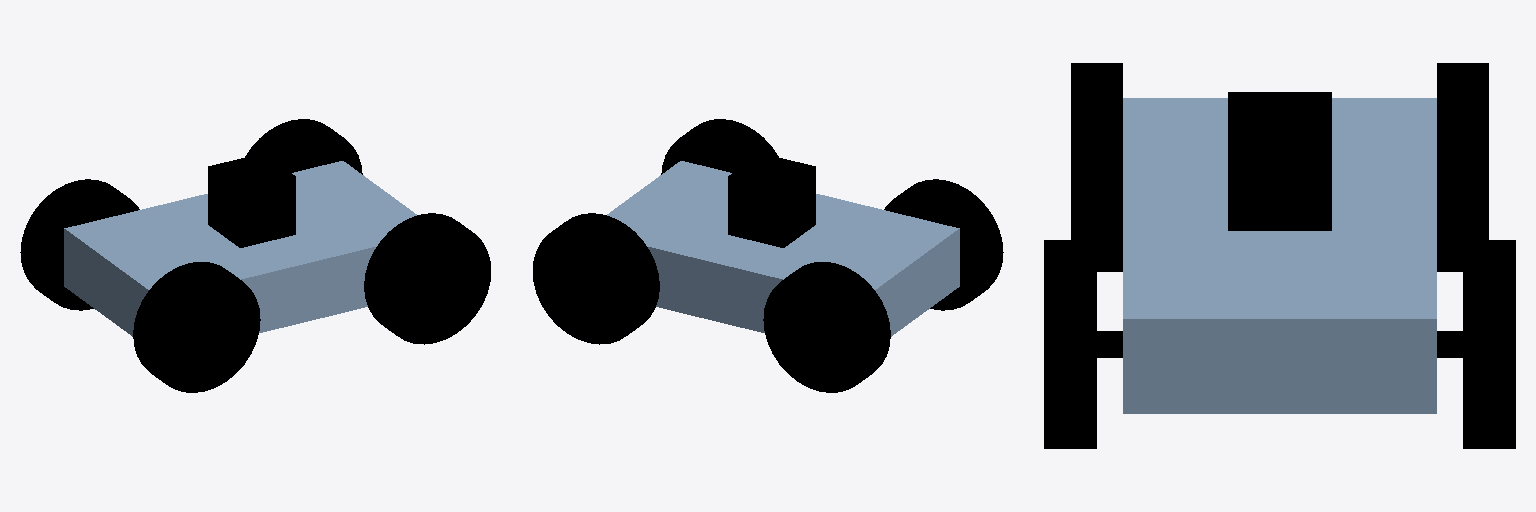
robot.urdf — simplecar:
<?xml version="1.0"?> 
<robot name="simplecar">
    <!-- Colors --> 
    <material name="black"> 
        <color rgba="0 0 0 1"/>
    </material>
    <material name="blue"> 
        <color rgba="0.6 0.7 0.8 1"/>
    </material>


    <!-- Base Frame of Car --> 
    <link name="base_link">
        <visual> 
            <geometry> 
                <box size="0.5 0.3 0.1"/>
            </geometry>
            <material name="blue"/>
        </visual>
        <inertial>
            <mass value="6"/>
            <inertia ixx="0.1" ixy="0" ixz="0" iyy="0.1" iyz="0.0" izz="0.1"/>
        </inertial> 
    </link> 


    <!-- Left Front Wheel -->
    <link name="left_front_wheel">
        <visual> 
            <geometry> 
                <cylinder length="0.05" radius="0.1"/>
            </geometry>
            <origin rpy="1.57075 1.57075 0"/>
            <material name="black"/>
        </visual>
        <collision> 
             <geometry> 
                <cylinder length="0.05" radius="0.1"/>
            </geometry>
            <origin rpy="1.57075 1.57075 0"/>
        </collision> 
        <inertial> 
            <origin rpy="1.57075 1.57075 0"/>
            <mass value="0.3"/>
            <inertia ixx="0.4" ixy="0" ixz="0" iyy="0.4" iyz="0.0" izz="0.2"/>
        </inertial> 
    </link> 
    <joint name="left_hinge_to_left_front_wheel" type="continuous">
        <parent link="left_hinge"/>
        <child link="left_front_wheel"/> 
        <axis xyz="0 1 0"/>
        <origin xyz="0 0.2 0"/>
    </joint>
    <!-- Left Front Wheel - Hinge -->
    <link name="left_hinge">
        <visual> 
            <geometry> 
                <box size="0.20 0.02 0.02"/>
            </geometry>
            <origin xyz="0 0.1 0 " rpy="0 0 1.57075"/>
            <material name="black"/>
        </visual>
        <inertial> 
            <origin rpy="0 0 1.57075"/>
            <mass value="0.01"/>
            <inertia ixx="5E-6" ixy="0" ixz="0" iyy="5E-6" iyz="0" izz="5E-6"/>
        </inertial> 
    </link> 
    <joint name="base_to_left_hinge" type="revolute">
        <parent link="base_link"/>
        <child link="left_hinge"/> 
        <axis xyz="0 0 1"/>
        <origin xyz="0.2 0.0 0"/>
        <limit effort="100" lower="-0.5" upper="0.5" velocity="100"/>
    </joint>
    <!-- Right Front Wheel -->
    <link name="right_front_wheel">
        <visual> 
            <geometry> 
                <cylinder length="0.05" radius="0.1"/>
            </geometry>
            <origin rpy="-1.57075 -1.57075 0"/>
            <material name="black"/>
        </visual>
        <collision> 
             <geometry> 
                <cylinder length="0.05" radius="0.1"/>
            </geometry>
            <origin rpy="-1.57075 -1.57075 0"/>
        </collision> 
        <inertial> 
            <origin rpy="-1.57075 -1.57075 0"/>
            <mass value="0.3"/>
            <inertia ixx="0.4" ixy="0" ixz="0" iyy="0.4" iyz="0.0" izz="0.2"/>
        </inertial> 
    </link> 
    <joint name="right_hinge_to_right_front_wheel" type="continuous">
        <parent link="right_hinge"/>
        <child link="right_front_wheel"/> 
        <axis xyz="0 1 0"/>
        <origin xyz="0 -0.2 0"/>
    </joint>
    <!-- Right Front Wheel - Hinge -->
    <link name="right_hinge">
        <visual> 
            <geometry> 
                <box size="0.20 0.02 0.02"/>
            </geometry>
            <origin xyz="0 -0.1 0 " rpy="0 0 -1.57075"/>
            <material name="black"/>
        </visual>
        <inertial> 
            <origin rpy="0 0 -1.57075"/>
            <mass value="0.01"/>
            <inertia ixx="5E-6" ixy="0" ixz="0" iyy="5E-6" iyz="0" izz="5E-6"/>
        </inertial> 
    </link> 
    <joint name="base_to_right_hinge" type="revolute">
        <parent link="base_link"/>
        <child link="right_hinge"/> 
        <axis xyz="0 0 1"/>
        <origin xyz="0.2 0 0"/>
        <limit effort="100" lower="-0.5" upper="0.5" velocity="100"/>
    </joint>
    <!-- Left Back Wheel -->
    <link name="left_back_wheel">
        <visual> 
            <geometry> 
                <cylinder length="0.05" radius="0.1"/>
            </geometry>
            <origin rpy="1.57075 1.57075 0"/>
            <material name="black"/>
        </visual>
        <collision> 
             <geometry> 
                <cylinder length="0.05" radius="0.1"/>
            </geometry>
            <origin rpy="1.57075 1.57075 0"/>
        </collision> 
        <inertial> 
            <origin rpy="1.57075 1.57075 0"/>
            <mass value="0.3"/>
            <inertia ixx="0.4" ixy="0" ixz="0" iyy="0.4" iyz="0.0" izz="0.2"/>
        </inertial> 
    </link> 
    <joint name="base_to_left_back_wheel" type="continuous">
        <parent link="base_link"/>
        <child link="left_back_wheel"/> 
        <axis xyz="0 1 0"/>
        <origin xyz="-0.2 0.175 0"/>
    </joint>
    <!-- Right Back Wheel -->
    <link name="right_back_wheel">
        <visual> 
            <geometry> 
                <cylinder length="0.05" radius="0.1"/>
            </geometry>
            <origin rpy="-1.57075 -1.57075 0"/>
            <material name="black"/>
        </visual>
        <collision> 
             <geometry> 
                <cylinder length="0.05" radius="0.1"/>
            </geometry>
            <origin rpy="-1.57075 -1.57075 0"/>
        </collision> 
        <inertial> 
            <origin rpy="-1.57075 -1.57075 0"/>
            <mass value="0.3"/>
            <inertia ixx="0.4" ixy="0" ixz="0" iyy="0.4" iyz="0.0" izz="0.2"/>
        </inertial> 
    </link> 
    <joint name="base_to_right_back_wheel" type="continuous">
        <parent link="base_link"/>
        <child link="right_back_wheel"/> 
        <axis xyz="0 1 0"/>
        <origin xyz="-0.2 -0.175 0"/>
    </joint>

    <link name="lidar_link">
        <inertial>
            <mass value="0.1"/>
            <inertia ixx="1e-4" ixy="0" ixz="0" iyy="1e-4" iyz="0" izz="1e-4"/>
        </inertial>
        <visual>
            <geometry>
                <box size="0.1 0.1 0.1"/>
            </geometry>
            <material name="black"/>
        </visual>
        <collision>
            <geometry>
                <box size="0.1 0.1 0.1"/>
            </geometry>
        </collision>
    </link>
    <joint name="base_to_lidar" type="fixed">
        <parent link="base_link"/>
        <child link="lidar_link"/>
        <origin xyz="0 0 0.1" rpy="0 0 0"/>
    </joint>
</robot>

--- Render facts (derived) ---
3 views of the same robot in one strip: view 1: azimuth 30°, elevation 25°; view 2: azimuth 150°, elevation 25°; view 3: azimuth 270°, elevation 25° (orthographic).
Robot: simplecar — 8 links, 7 joints (2 revolute, 4 continuous, 1 fixed); root link base_link; default pose: every joint at zero.
Links seen in each view (by area): view 1: base_link, right_back_wheel, right_front_wheel, lidar_link, left_back_wheel, left_front_wheel; view 2: base_link, left_back_wheel, left_front_wheel, lidar_link, right_back_wheel, right_front_wheel; view 3: base_link, lidar_link, left_front_wheel, right_front_wheel, left_back_wheel, right_back_wheel, left_hinge, right_hinge.
Boxes of the visible links, <box> form: base_link: <box>64,161,416,336</box>; right_back_wheel: <box>133,262,260,392</box>; right_front_wheel: <box>364,213,490,344</box>; lidar_link: <box>208,153,295,247</box>; left_back_wheel: <box>20,179,139,310</box>; left_front_wheel: <box>245,119,362,174</box>; base_link: <box>607,161,959,336</box>; left_back_wheel: <box>763,262,890,392</box>; left_front_wheel: <box>533,213,659,344</box>; lidar_link: <box>728,153,815,247</box>; right_back_wheel: <box>884,179,1003,310</box>; right_front_wheel: <box>661,119,778,174</box>; base_link: <box>1123,98,1436,413</box>; lidar_link: <box>1228,92,1331,230</box>; left_front_wheel: <box>1463,240,1515,448</box>; right_front_wheel: <box>1044,240,1096,448</box>; left_back_wheel: <box>1437,63,1488,271</box>; right_back_wheel: <box>1071,63,1122,271</box>; left_hinge: <box>1437,331,1462,357</box>; right_hinge: <box>1097,331,1122,357</box>.
Size in the robot's own frame: 0.6 by 0.45 by 0.25 metres.
Geometry: primitives only (box / cylinder / sphere), no mesh files.